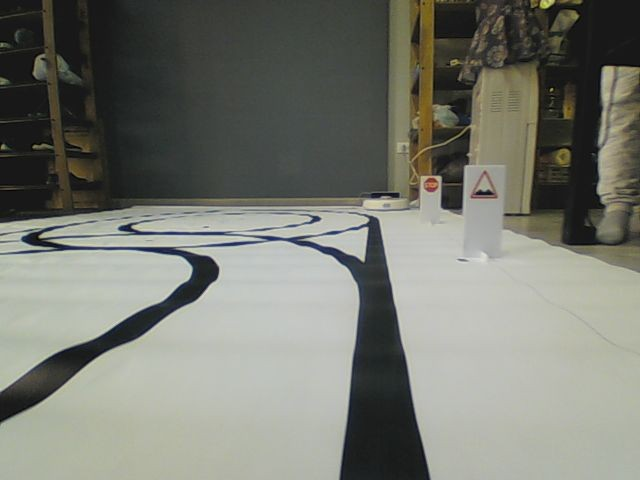Nerov: (469, 169, 498, 200)
Stop: (422, 176, 439, 194)
